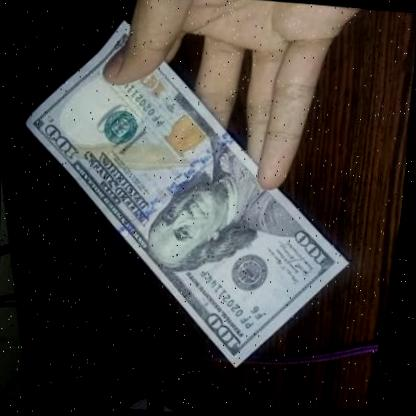one_hundred-front: (0, 2, 393, 389)
